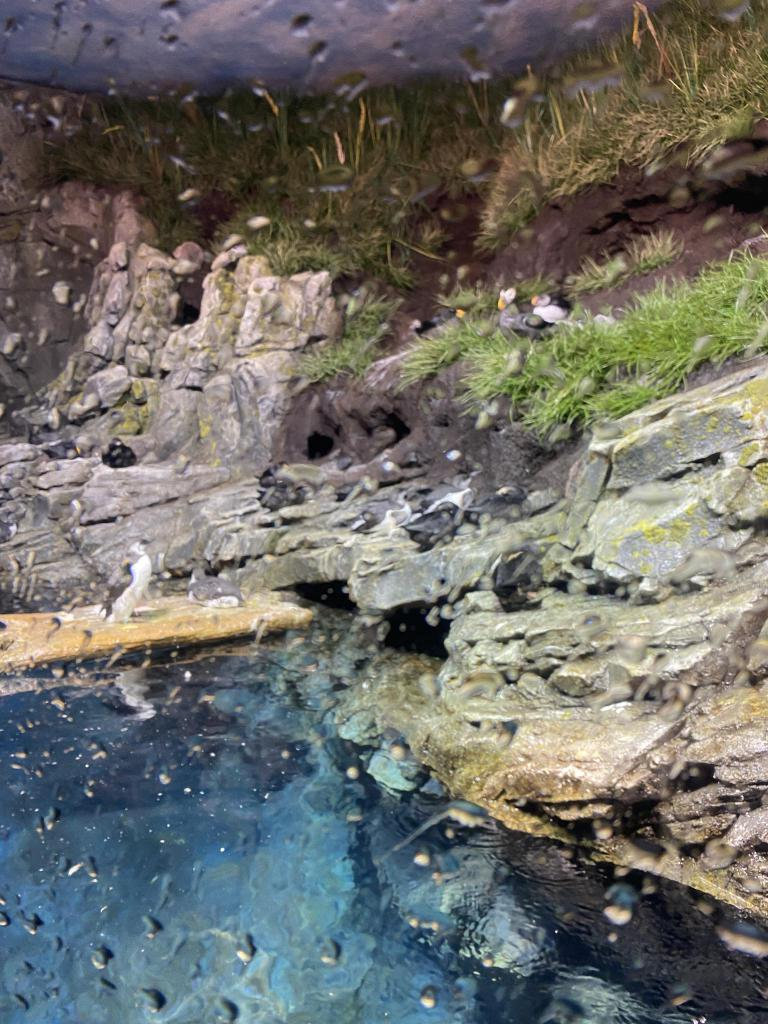puffin: (190, 566, 244, 608), (528, 294, 572, 330), (497, 286, 529, 332), (100, 436, 136, 464), (42, 440, 82, 460)
starfish: (98, 538, 152, 624)
